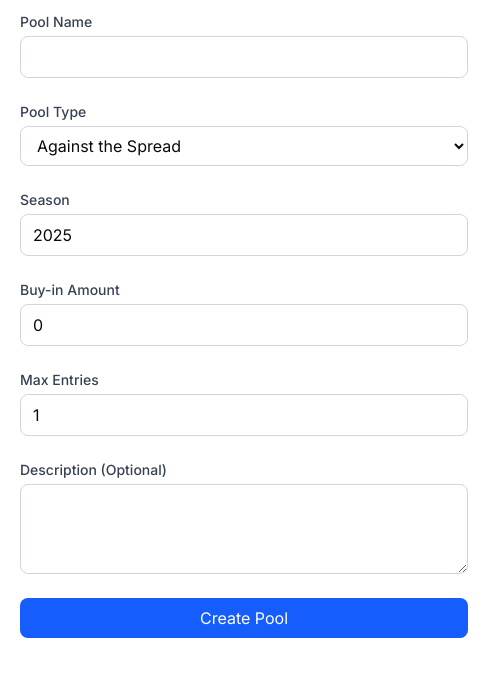
it: PoolSetup › validates required fields
# Clear the pool name to make it empty
Clear the field labelled "Pool Name" at (244, 57), box [20,36,468,78]
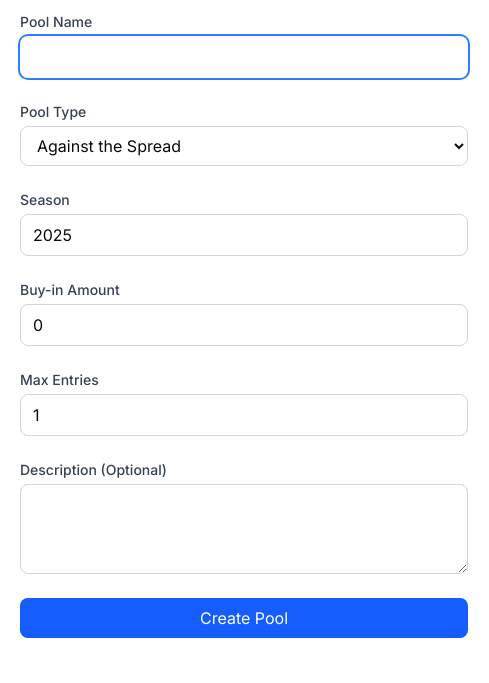
# Submit without filling required fields
Click the button "Create Pool" at (244, 618), box [20,598,468,638]
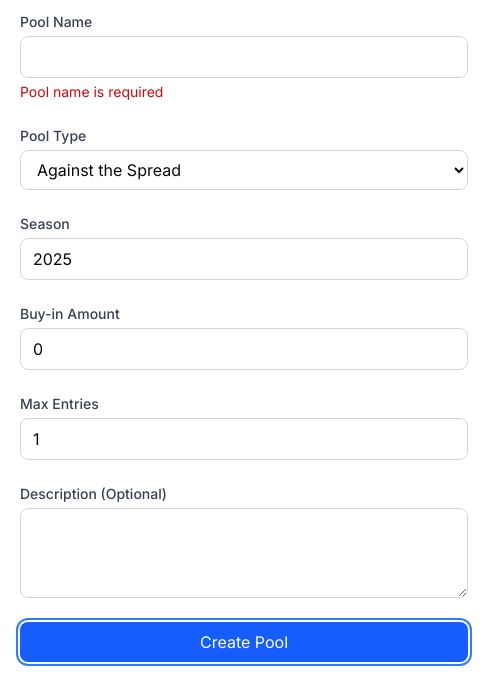
Now the text "Pool name is required" is shown, box [20,83,163,100]
